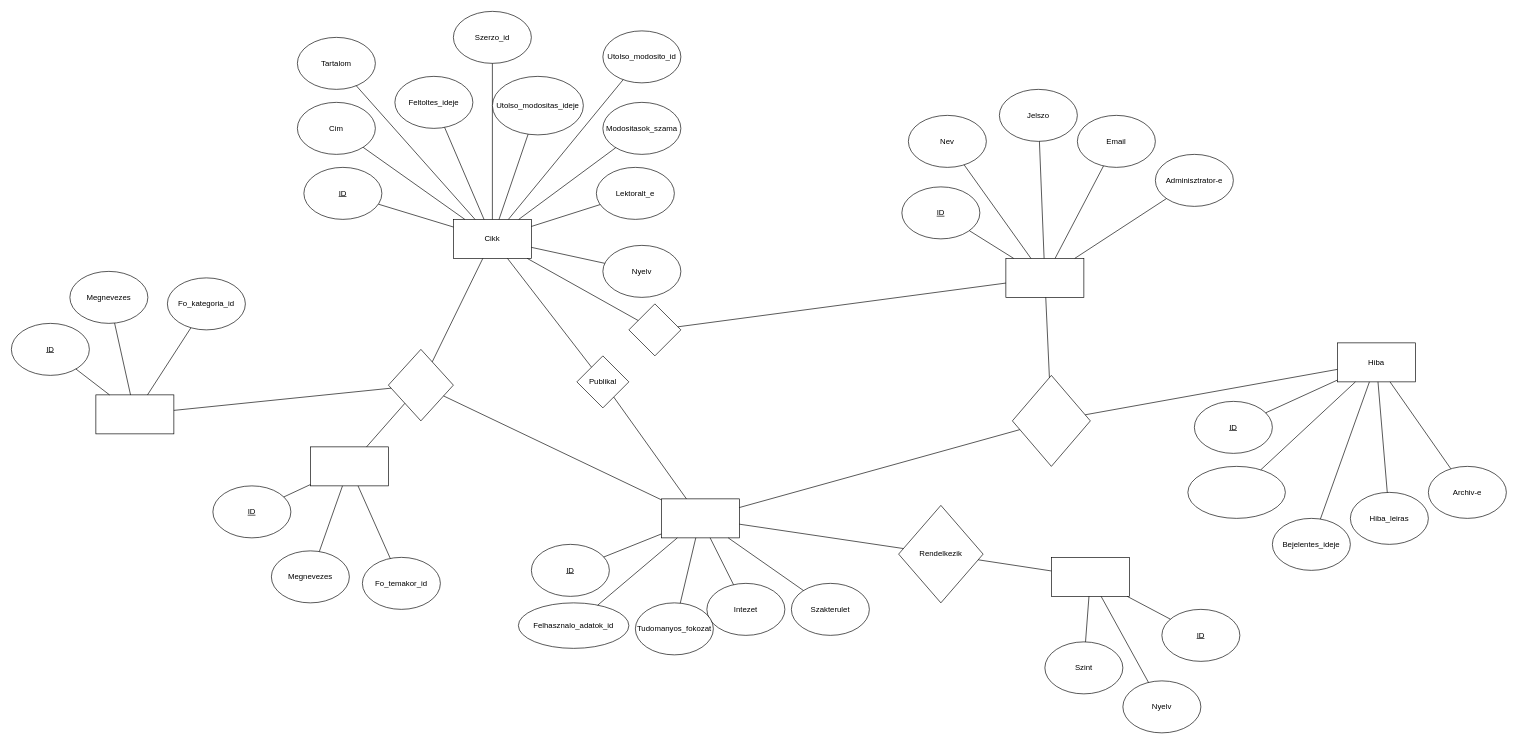
This 1518x744 diagram has some shape labels left out. Here are the shapes that lost their labels. From the top down, the box of each, then its label:
(1005, 258, 1084, 297): Felhasznalo
(628, 303, 681, 356): Letrehozas
(388, 349, 453, 421): Hozzarendel
(95, 394, 174, 434): Kategoria
(1012, 375, 1090, 466): Hiiba_bejelentes
(310, 446, 388, 486): Temakor
(1187, 466, 1285, 518): Bejelento_felhasznalo_id
(661, 498, 739, 538): Lektor
(1051, 557, 1129, 596): Nyelvtudas
